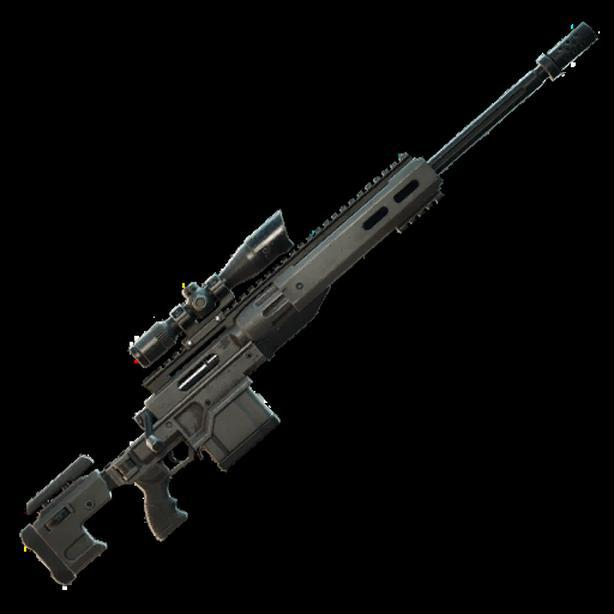Firearm: (17, 13, 602, 604)
